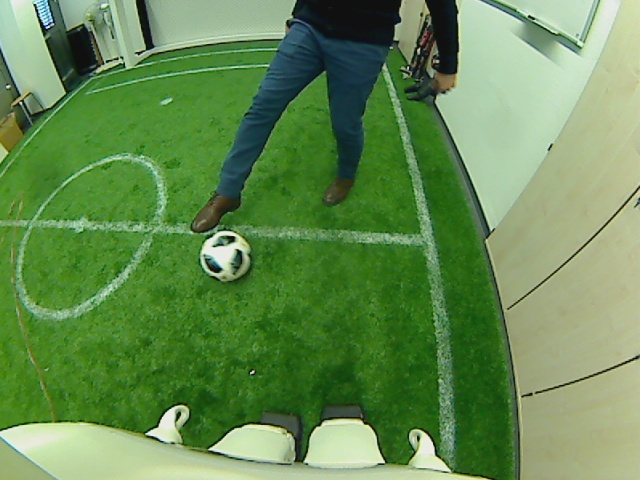ball: (198, 228, 252, 283)
